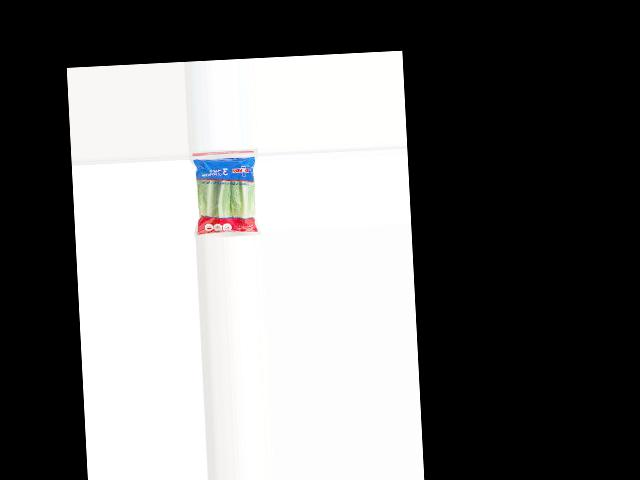lettuce: (192, 154, 259, 238)
